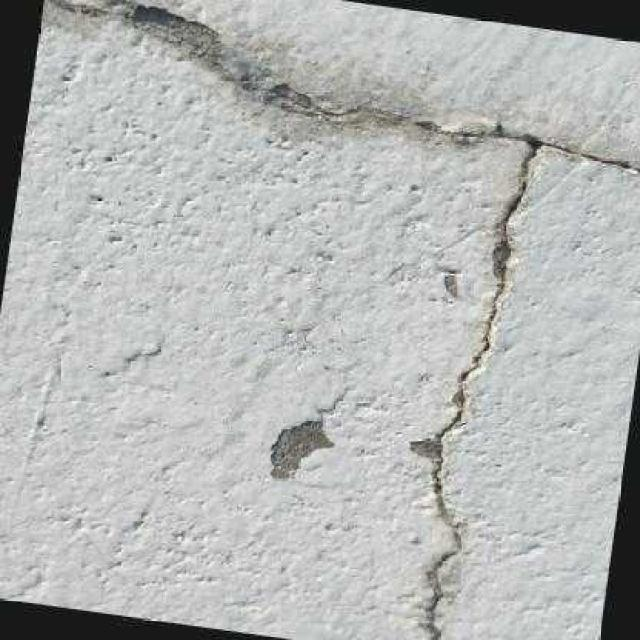D00: (47, 0, 640, 640)
